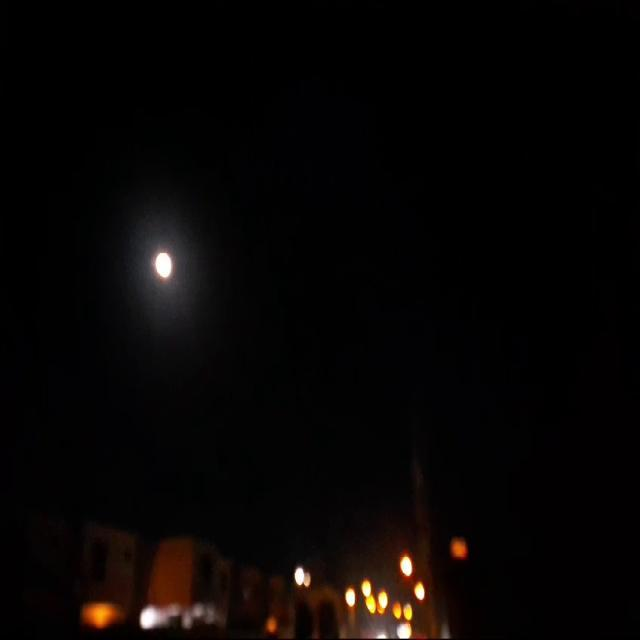moon: (144, 230, 164, 266)
